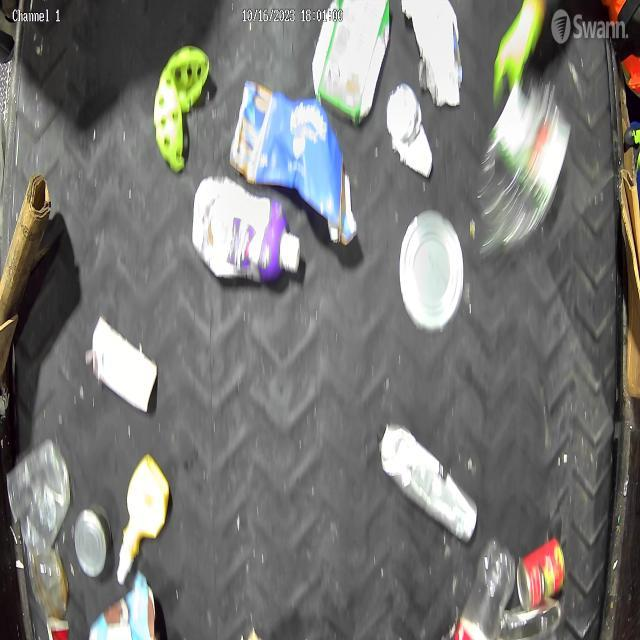can: (400, 210, 464, 330), (386, 84, 434, 178), (516, 538, 566, 610), (73, 502, 112, 579)
non_white_jug: (230, 81, 358, 248), (192, 174, 300, 284), (312, 0, 391, 126)
plastic_bottle: (454, 538, 516, 640)
